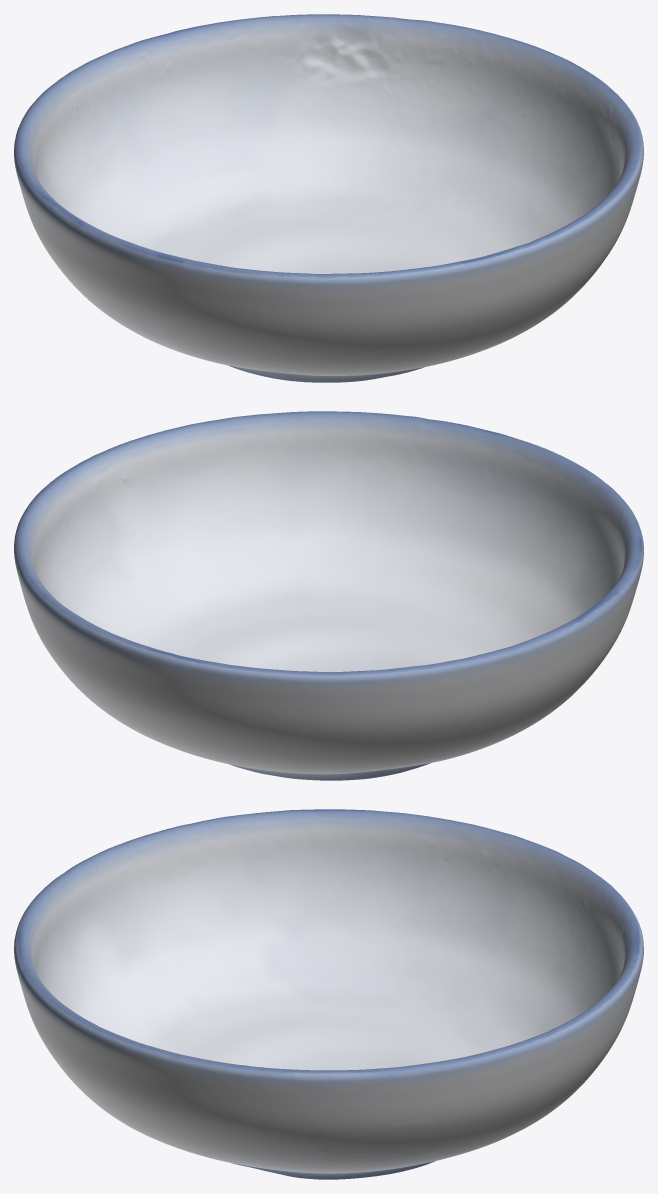
File: bowl.glb
3 renders of one model, top to bottom at view 1: azimuth 30°, elevation 25°; view 2: azimuth 150°, elevation 25°; view 3: azimuth 270°, elevation 25°, orthographic.
Size of the model in its own units: 1.9 by 0.5912 by 1.89.
Materials: 1 (1 with a texture image).
